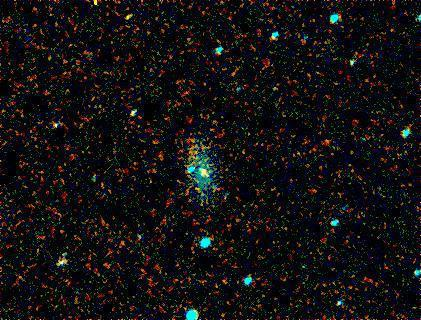star: (192, 157, 222, 187)
